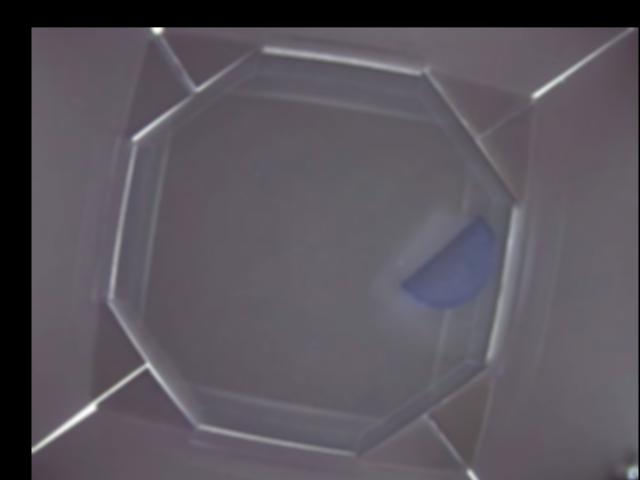Mooli: (401, 212, 495, 307)
